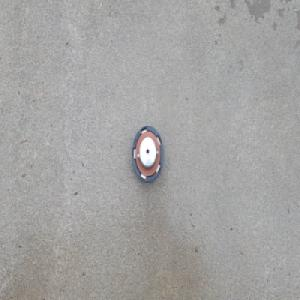FuelCap: (130, 121, 164, 183)
